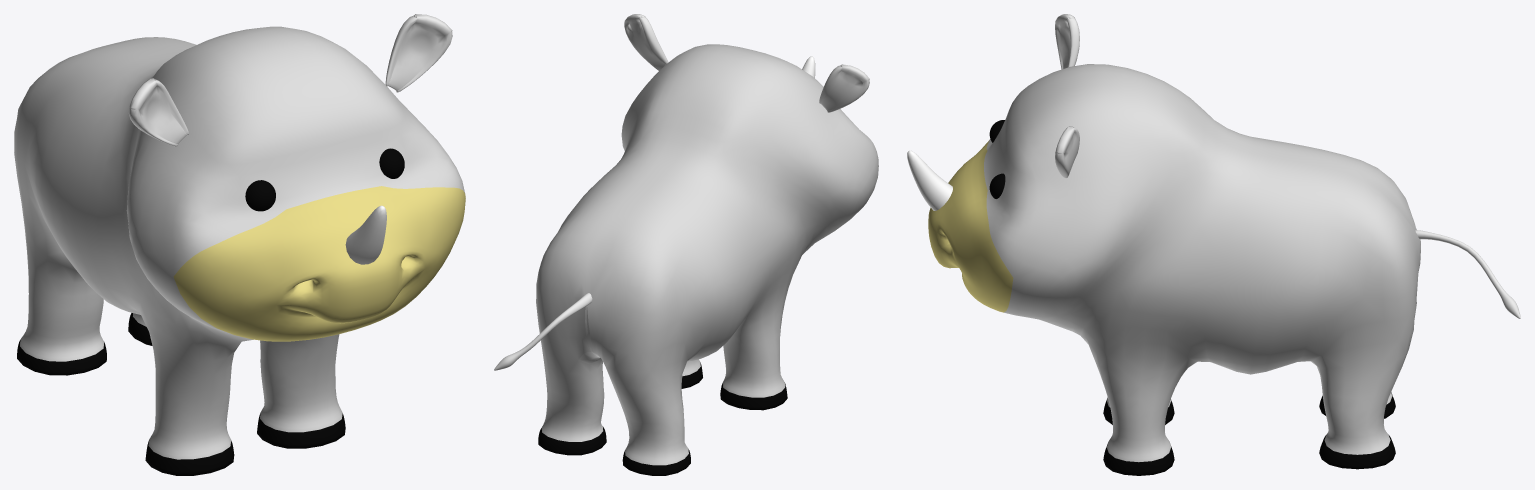
Rendered from rhino(2).fbx.
3 renders of one model, left to right at view 1: azimuth 30°, elevation 25°; view 2: azimuth 150°, elevation 25°; view 3: azimuth 270°, elevation 25°, orthographic. The views are drawn at different scales.
Visible parts, largest first — view 1: Rhino skin, ear, corne, eye-right, eye-left; view 2: Rhino skin, ear, Queue; view 3: Rhino skin, ear, corne, Queue.
Part boxes in pixels (x1,y1,x2,y2): Rhino skin: [14, 26, 465, 475]; ear: [128, 14, 452, 146]; corne: [345, 205, 386, 264]; eye-right: [245, 180, 275, 211]; eye-left: [379, 148, 404, 178]; Rhino skin: [536, 44, 878, 475]; ear: [624, 14, 869, 112]; Queue: [494, 293, 592, 370]; Rhino skin: [928, 64, 1420, 475]; ear: [1055, 14, 1079, 178]; corne: [907, 150, 952, 210]; Queue: [1415, 230, 1520, 318].
Size of the model in its own units: 451 by 571 by 871.
